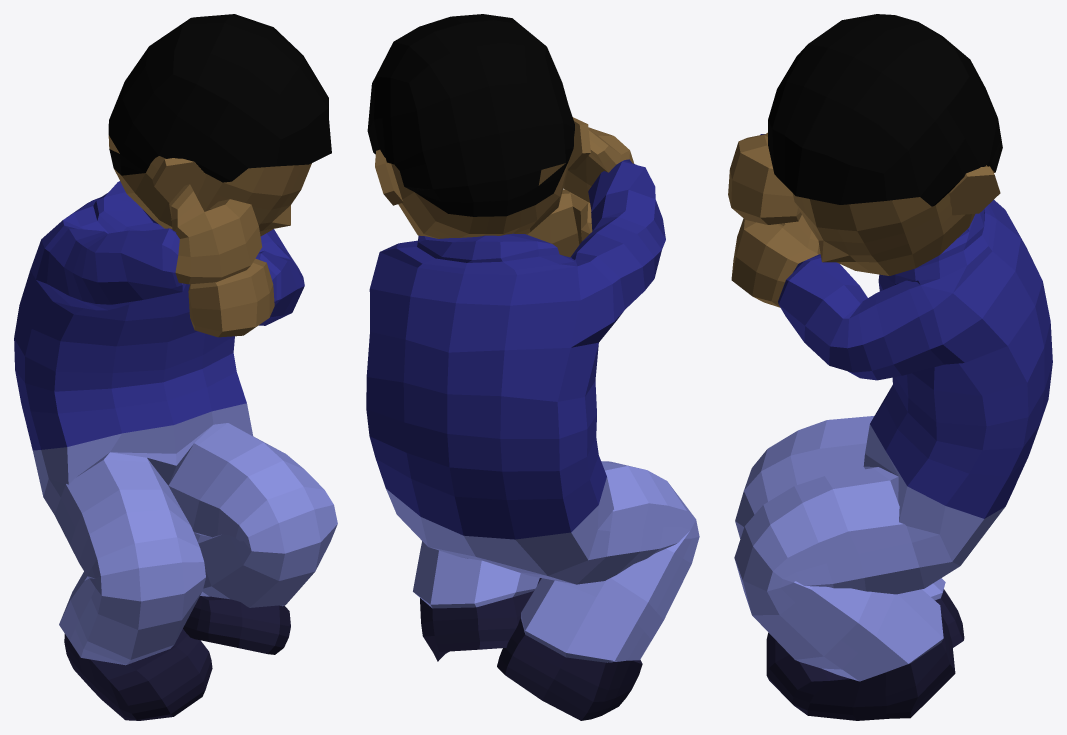
The model's file is Student3.fbx.
3 views of the same model, side by side, from view 1: azimuth 30°, elevation 25°; view 2: azimuth 150°, elevation 25°; view 3: azimuth 270°, elevation 25° (orthographic). The views are drawn at different scales.
Visible parts, largest first — view 1: Body; view 2: Body; view 3: Body.
Part boxes in pixels (x1,y1,x2,y2): Body: (14,14,337,720); Body: (366,14,699,720); Body: (728,14,1052,720).
Bounding box in the file's own units: 5.02 × 11.92 × 4.87.
